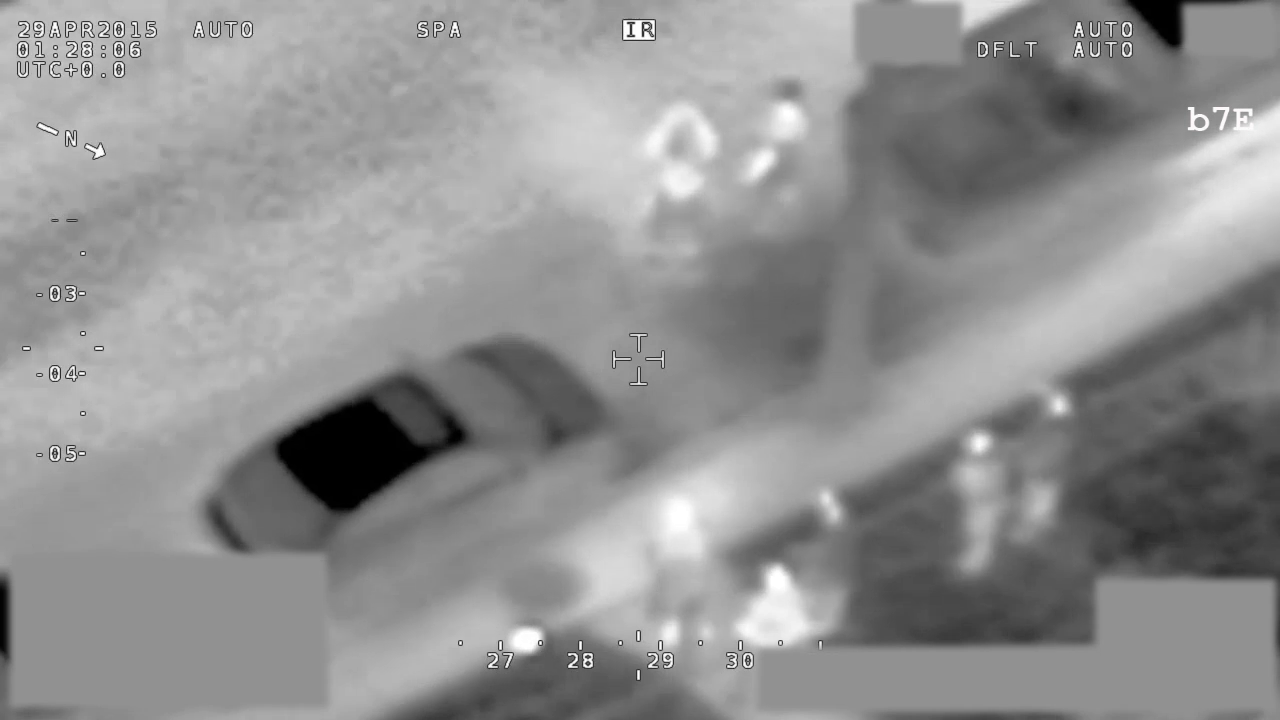vehicle: (840, 1, 1279, 267), (198, 330, 618, 593)
